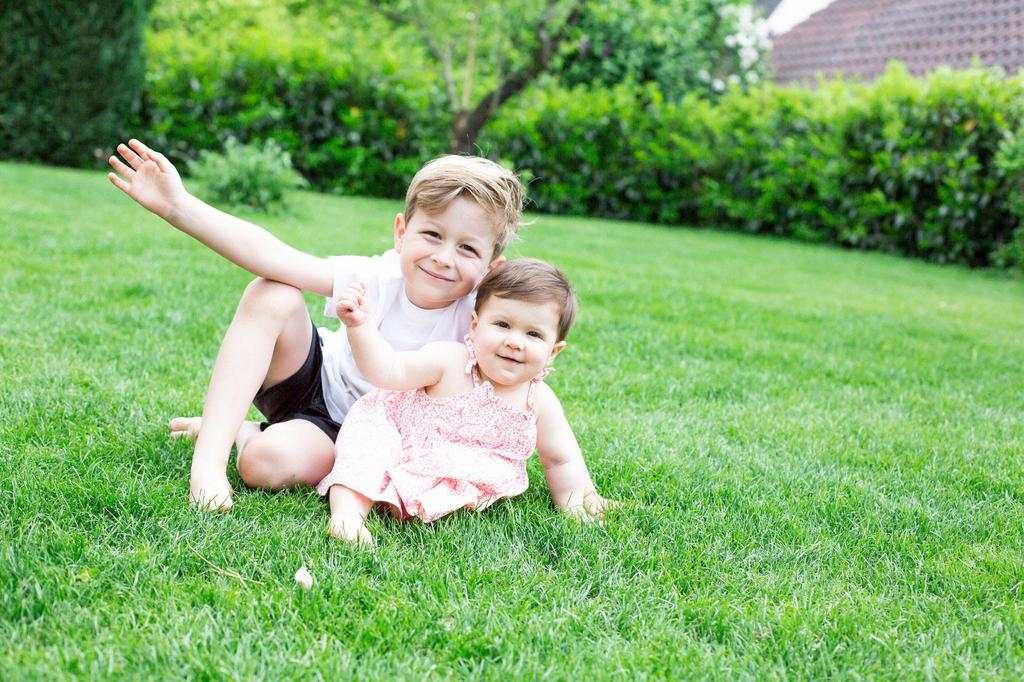child: (124, 116, 513, 525), (327, 264, 660, 578)
